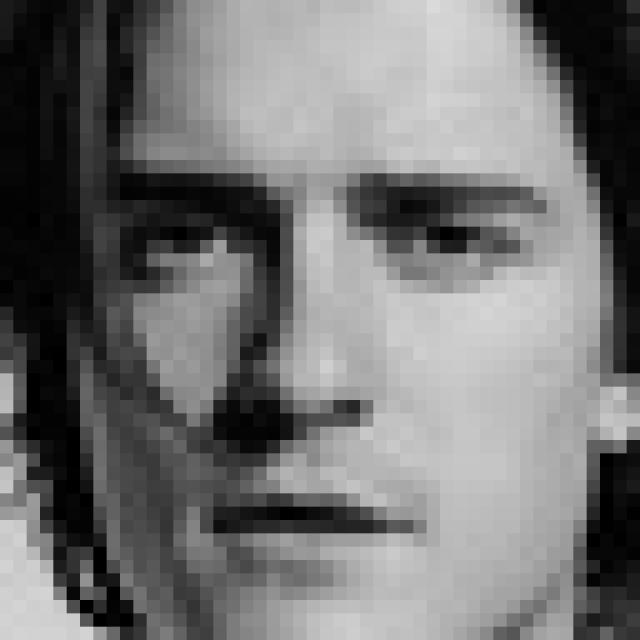neutral: (111, 156, 557, 588)
